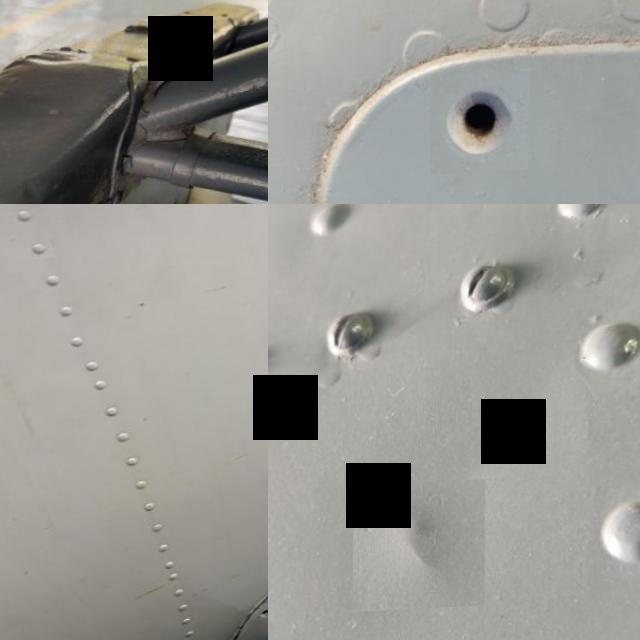Crack: (207, 596, 251, 640), (253, 546, 268, 611)
Dent: (353, 484, 486, 615)
Missing_Fastener: (430, 73, 530, 178), (258, 611, 268, 624)
